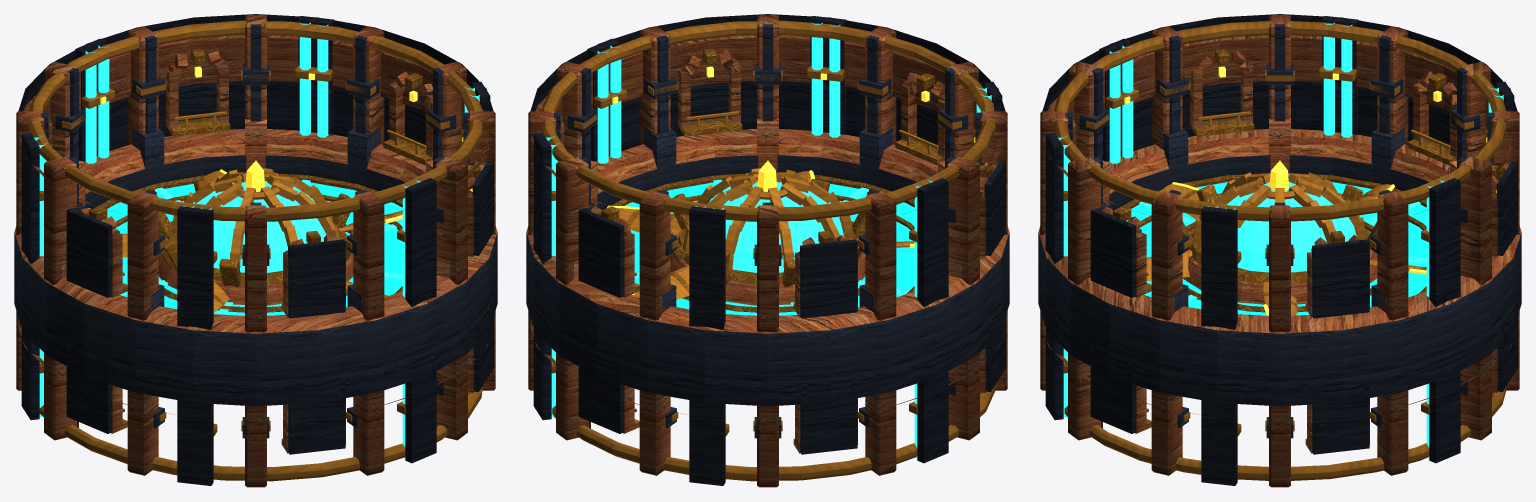
The model's file is env_core_reactor.glb.
3 views of the same model, side by side, from view 1: azimuth 30°, elevation 25°; view 2: azimuth 150°, elevation 25°; view 3: azimuth 270°, elevation 25° (orthographic).
Visible parts, largest first — view 1: ShaftRing_Main, Shaft_BottomSanctuary, Turbine_Blades; view 2: ShaftRing_Main, Shaft_BottomSanctuary, Turbine_Blades; view 3: ShaftRing_Main, Shaft_BottomSanctuary, Turbine_Blades.
Boxes of the visible parts, x1,y1,x2,y2 form: ShaftRing_Main: [16, 14, 495, 487]; Shaft_BottomSanctuary: [14, 119, 497, 406]; Turbine_Blades: [121, 169, 402, 312]; ShaftRing_Main: [528, 14, 1007, 487]; Shaft_BottomSanctuary: [526, 119, 1009, 406]; Turbine_Blades: [607, 170, 914, 299]; ShaftRing_Main: [1040, 14, 1519, 487]; Shaft_BottomSanctuary: [1038, 119, 1521, 406]; Turbine_Blades: [1146, 182, 1426, 315].
Size of the model in its own units: 19.3 by 12 by 19.3.
Materials: 7 (4 with a texture image).
